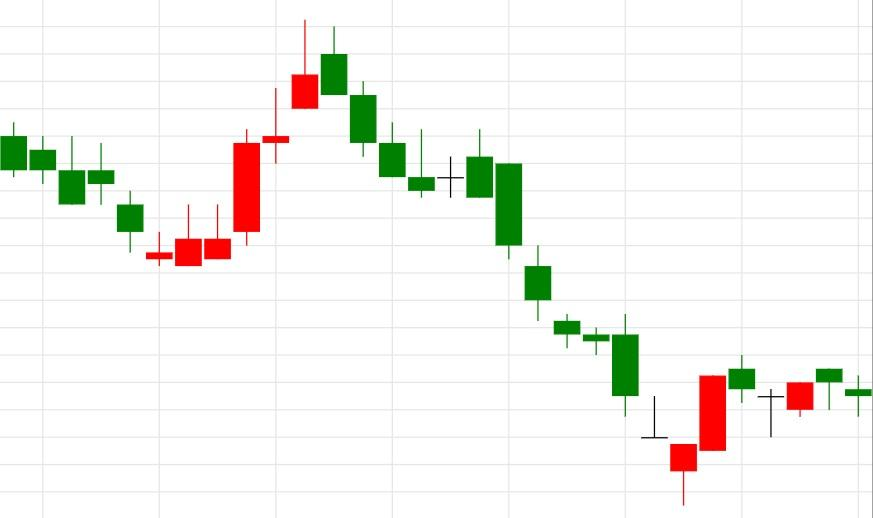three_black_crows_fall: (174, 19, 408, 267)
